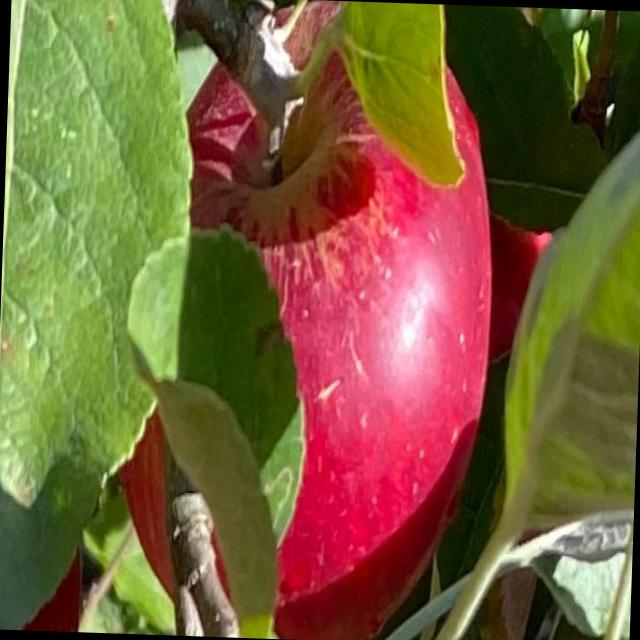Apples: (110, 0, 501, 639), (485, 212, 560, 362), (16, 540, 82, 630)
